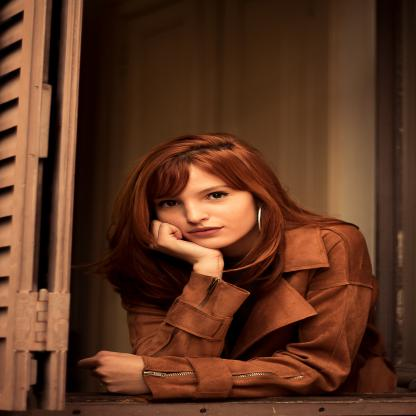Eye: (206, 192, 229, 202), (158, 199, 180, 208)
Mouth: (186, 226, 224, 237)
Nose: (183, 203, 210, 223)
